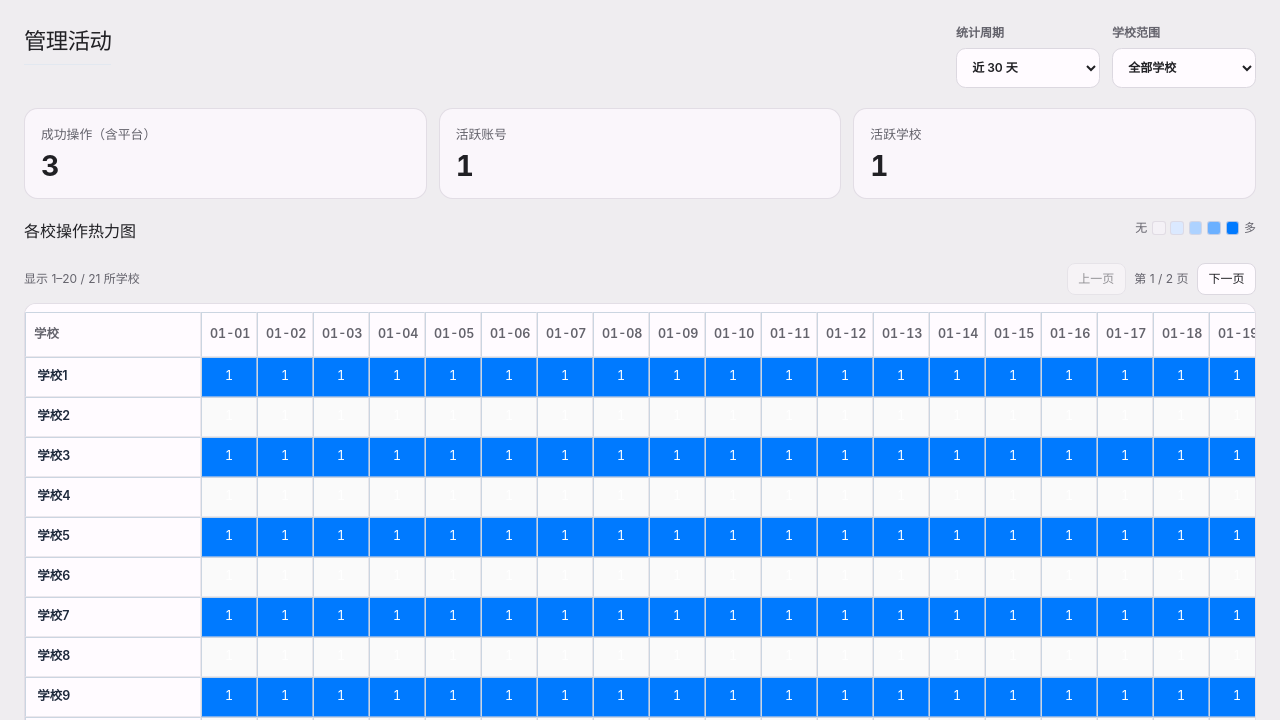
Scenario: ActivityPanel › renders only twenty school rows at a time in the heatmap
The width and height of the screenshot is (1280, 720).
Expected: the element "学校21" is not shown
Click the button "下一页" at (1227, 279), box [1197,263,1256,295]
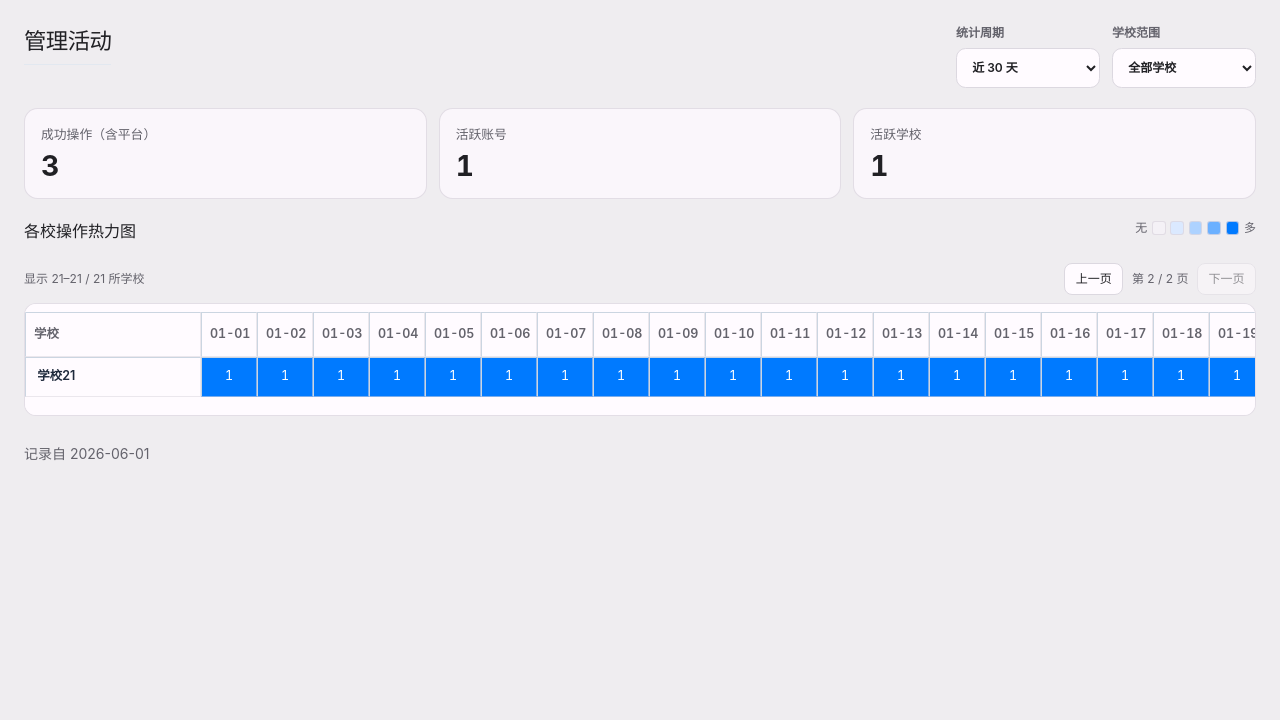
Expected: the column heading "学校21" is shown, [25,357,201,397]
Expected: the column heading "学校1" is gone
